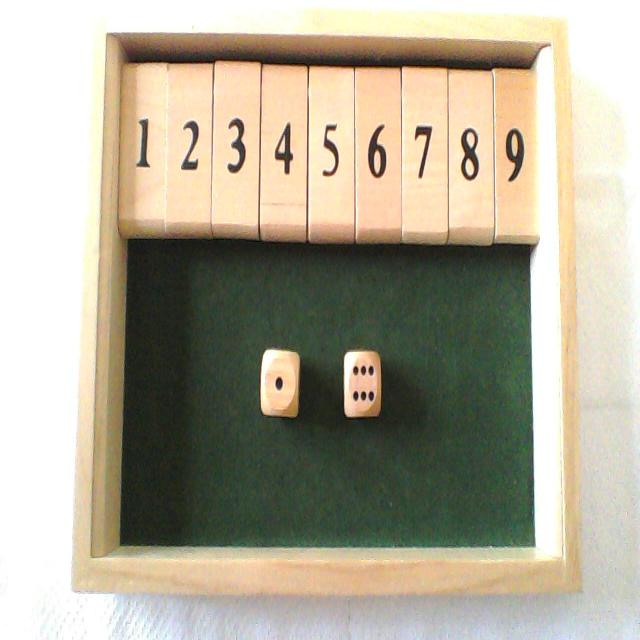1: (261, 349, 298, 416)
6: (344, 350, 381, 418)
C1: (118, 13, 164, 238)
C2: (167, 10, 213, 236)
C3: (213, 12, 259, 238)
C4: (262, 9, 308, 235)
C5: (310, 9, 352, 235)
C6: (358, 12, 399, 240)
C7: (404, 9, 445, 237)
C8: (450, 12, 492, 239)
C9: (497, 15, 538, 243)
